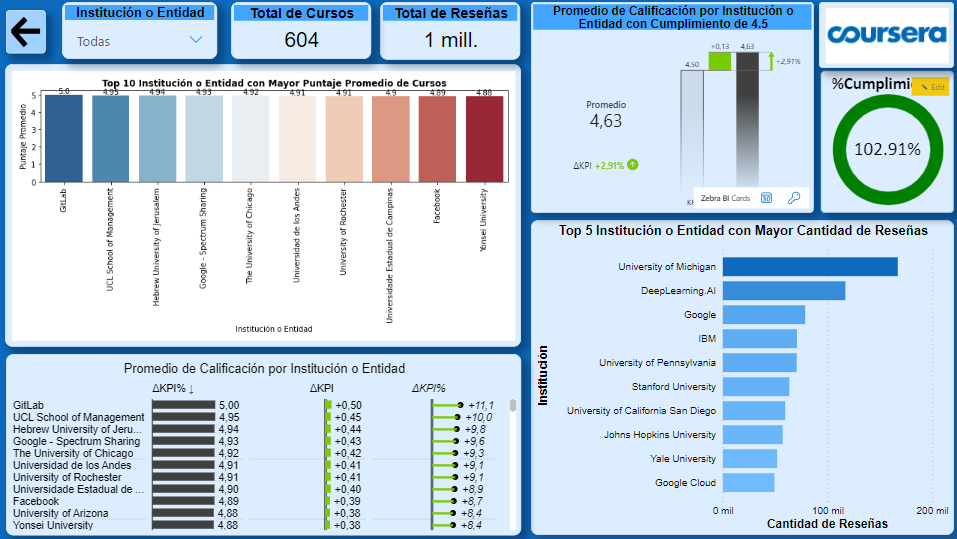

The page's visual inventory and layout, read from the dashboard file:
{"tool":"powerbi","page":{"name":"KPI4","canvas":[1280,720],"ordinal":3},"visuals":[{"type":"pythonVisual","fields":{"Values":["coursera_transformation.institution","coursera_transformation.rating_mean"]},"box":[10.8,86.5,687.6,377],"z":0},{"type":"clusteredBarChart","title":"Top 5 Institución o Entidad con Mayor Cantidad de Reseñas","fields":{"Category":["coursera_transformation.institution"],"Y":["Sum(coursera_transformation.count_reviews)"]},"box":[711.4,295.2,564.5,420.5],"z":1000},{"type":"card","title":"Total de Reseñas","fields":{"Values":["Sum(coursera_transformation.count_reviews)"]},"box":[511.2,4.3,187.2,77],"z":2000},{"type":"card","title":"Total de Cursos","fields":{"Values":["CountNonNull(coursera_transformation.count_reviews)"]},"box":[312.5,4.3,187.2,76.3],"z":3000},{"type":"slicer","title":"Institución o Entidad","fields":{"Values":["coursera_transformation.institution"]},"box":[86.4,4.3,207.4,76.3],"z":4000},{"type":"variance8E4BB1B41A8942A7B897C7014A6E1F56","fields":{"Category":["coursera_transformation.institution"],"Values":["coursera_transformation.PromedioPuntaje"],"Plan":["coursera_transformation.KPI4"]},"box":[11.5,473.8,686.9,241.9],"z":5000},{"type":"zebraBiCards2C860CFAA9944091B75F0DBD117F20FA","title":"Promedio de Calificación por Institución o Entidad con Cumplimiento de 4.5","fields":{"Values":["coursera_transformation.PromedioPuntaje"],"Plan":["coursera_transformation.KPI4"]},"box":[711.4,4.3,377.3,280.8],"z":6000},{"type":"pureVizInfographicC9801BF222134D2D83FA9C41861F3482","fields":{"dataset":["coursera_transformation.%Cumplimiento4","coursera_transformation.Color4"]},"box":[1098.7,96.5,177.1,188.6],"z":7000},{"type":"image","box":[1095.8,4.3,180,88],"z":8000},{"type":"actionButton","box":[11.5,14.4,53.3,57.6],"z":9000}]}

Visuals, with their boxes in screenshot pixels (x1, y1, x2, y2), scaled from the page's 1280x720 canvas onto the 957x539 screenshot:
pythonVisual - coursera_transformation.institution x coursera_transformation.rating_mean: 8, 65, 522, 347
"Top 5 Institución o Entidad con Mayor Cantidad de Reseñas" clusteredBarChart: 532, 221, 954, 536
"Total de Reseñas" card: 382, 3, 522, 61
"Total de Cursos" card: 234, 3, 374, 60
"Institución o Entidad" slicer: 65, 3, 220, 60
variance8E4BB1B41A8942A7B897C7014A6E1F56 - coursera_transformation.institution x coursera_transformation.PromedioPuntaje: 9, 355, 522, 536
"Promedio de Calificación por Institución o Entidad con Cumplimiento de 4.5" zebraBiCards2C860CFAA9944091B75F0DBD117F20FA: 532, 3, 814, 213
pureVizInfographicC9801BF222134D2D83FA9C41861F3482 - coursera_transformation.%Cumplimiento4 x coursera_transformation.Color4: 821, 72, 954, 213
image: 819, 3, 954, 69
actionButton: 9, 11, 48, 54
